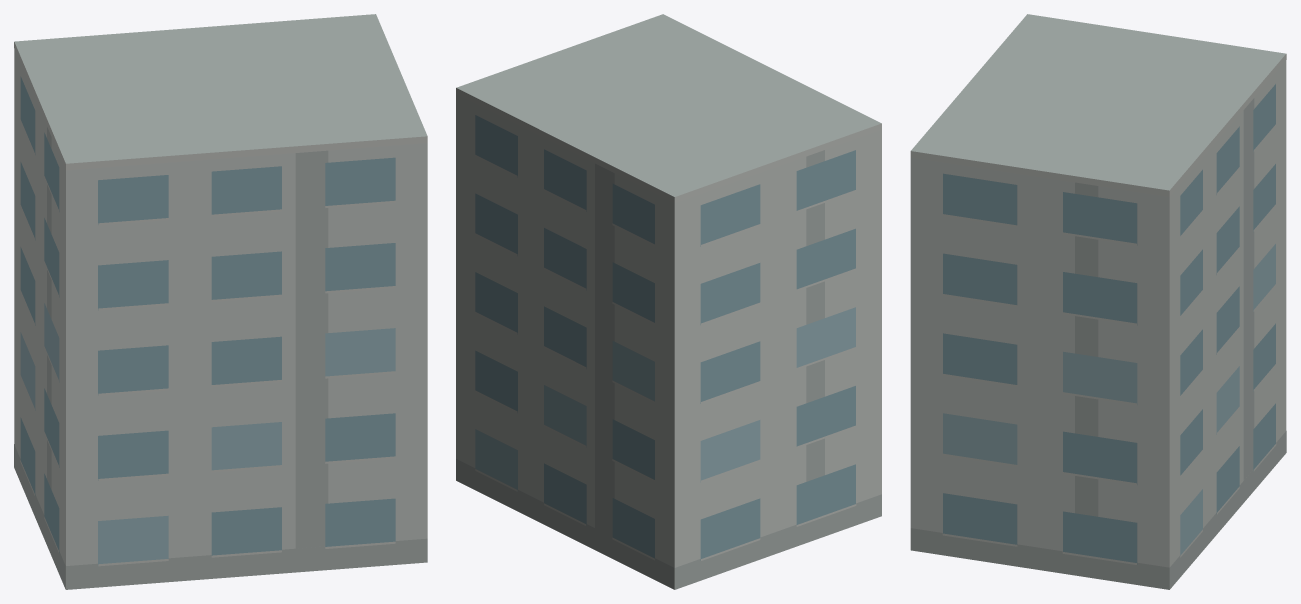
The model's file is residential-7f97aa34-3d18-4513-a104-ba938fd406a1.glb.
3 renders of one model, left to right at view 1: azimuth 30°, elevation 25°; view 2: azimuth 150°, elevation 25°; view 3: azimuth 270°, elevation 25°, orthographic. The views are drawn at different scales.
Visible parts, largest first — view 1: residential-7f97aa34-3d18-4513-a104-ba938fd406a1.tmp; view 2: residential-7f97aa34-3d18-4513-a104-ba938fd406a1.tmp; view 3: residential-7f97aa34-3d18-4513-a104-ba938fd406a1.tmp.
Part boxes in pixels (<box>): residential-7f97aa34-3d18-4513-a104-ba938fd406a1.tmp: <box>14,14,427,589</box>; residential-7f97aa34-3d18-4513-a104-ba938fd406a1.tmp: <box>456,14,881,589</box>; residential-7f97aa34-3d18-4513-a104-ba938fd406a1.tmp: <box>910,14,1286,589</box>.
Bounding box in the file's own units: 14.47 × 15.25 × 13.01.
